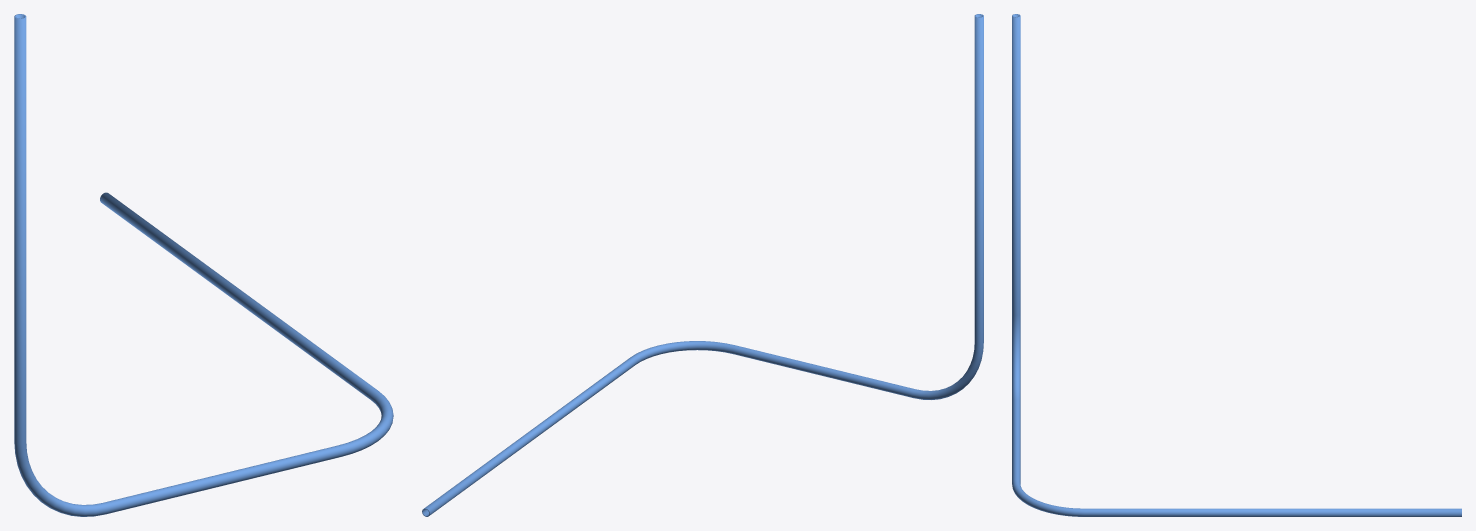
Rendered from pipes_supply__water_heater__8e60832d.glb.
3 views of the same model, side by side, from view 1: azimuth 30°, elevation 25°; view 2: azimuth 150°, elevation 25°; view 3: azimuth 270°, elevation 25° (orthographic). The views are drawn at different scales.
Parts seen in each view (by area): view 1: pipe_supply_cold_riser_tmv_lo_flo_s__pex; view 2: pipe_supply_cold_riser_tmv_lo_flo_s__pex; view 3: pipe_supply_cold_riser_tmv_lo_flo_s__pex.
Part boxes in pixels (box(x1,y1,x2,y2)): pipe_supply_cold_riser_tmv_lo_flo_s__pex: box(14, 14, 393, 516); pipe_supply_cold_riser_tmv_lo_flo_s__pex: box(422, 14, 983, 516); pipe_supply_cold_riser_tmv_lo_flo_s__pex: box(1012, 14, 1461, 516).
Bounding box in the file's own units: 0.8772 × 1.05 × 1.18.
